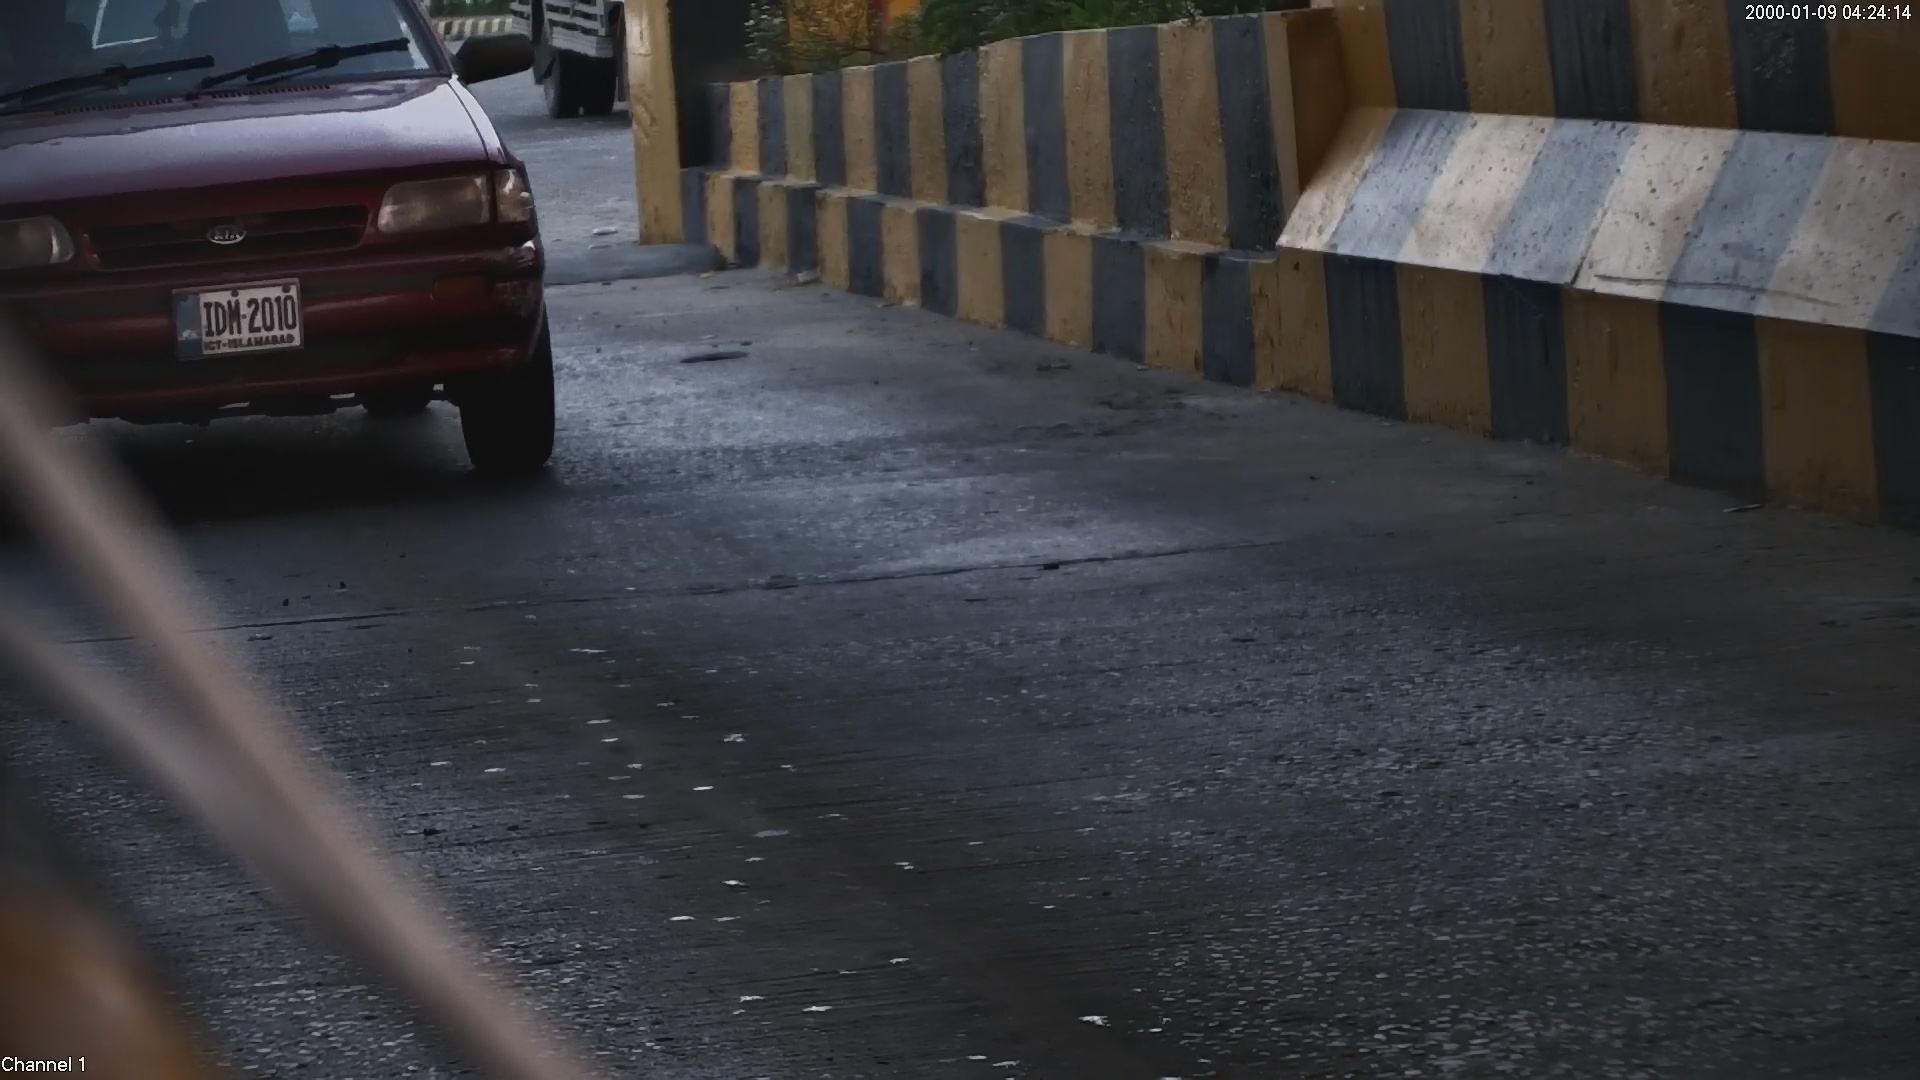Number_Plate: (160, 277, 319, 359)
